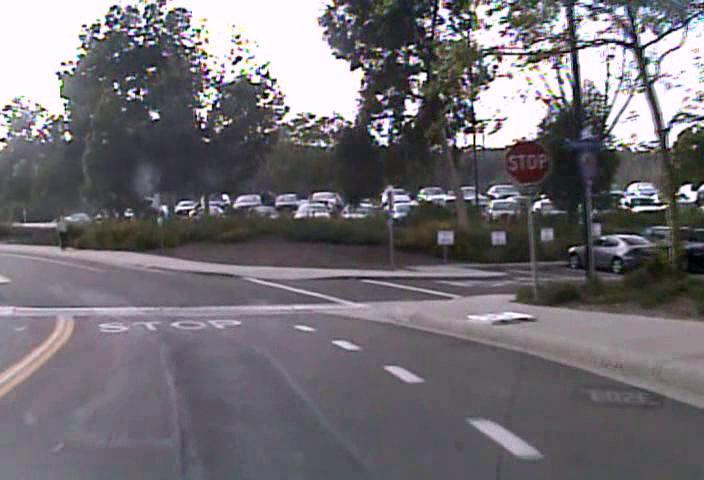stop: (503, 139, 551, 185)
